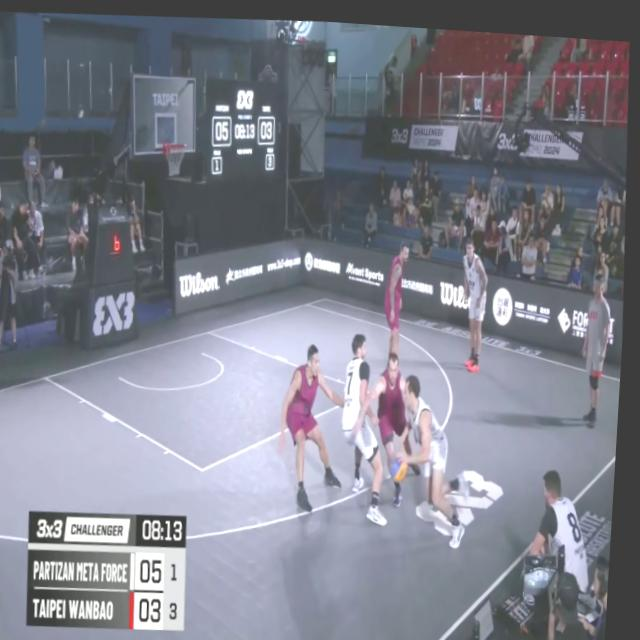ball: (391, 438, 414, 480)
hoop: (159, 131, 190, 179)
player: (390, 360, 493, 546), (272, 333, 359, 515), (339, 322, 405, 527), (356, 340, 425, 501), (452, 228, 498, 368), (379, 233, 419, 363)
